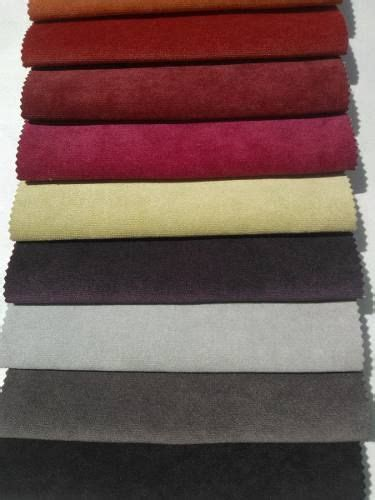gamuza: (1, 1, 375, 500)
